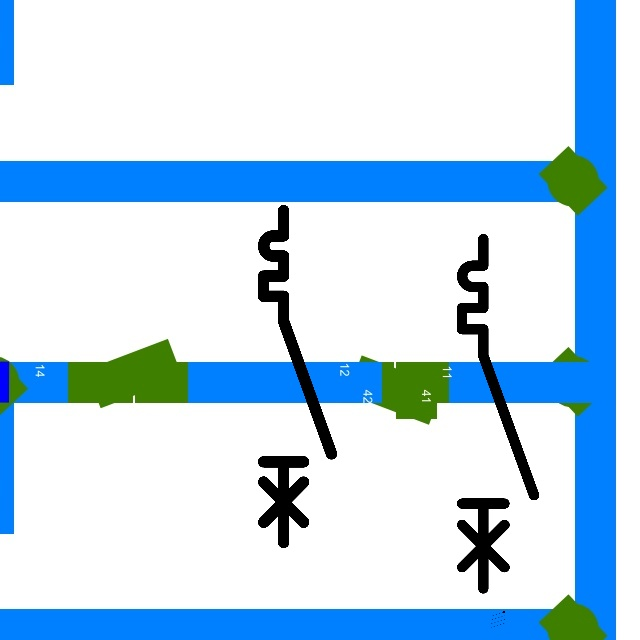interruptor_termomagnetico: (453, 230, 543, 598), (255, 202, 340, 551)
